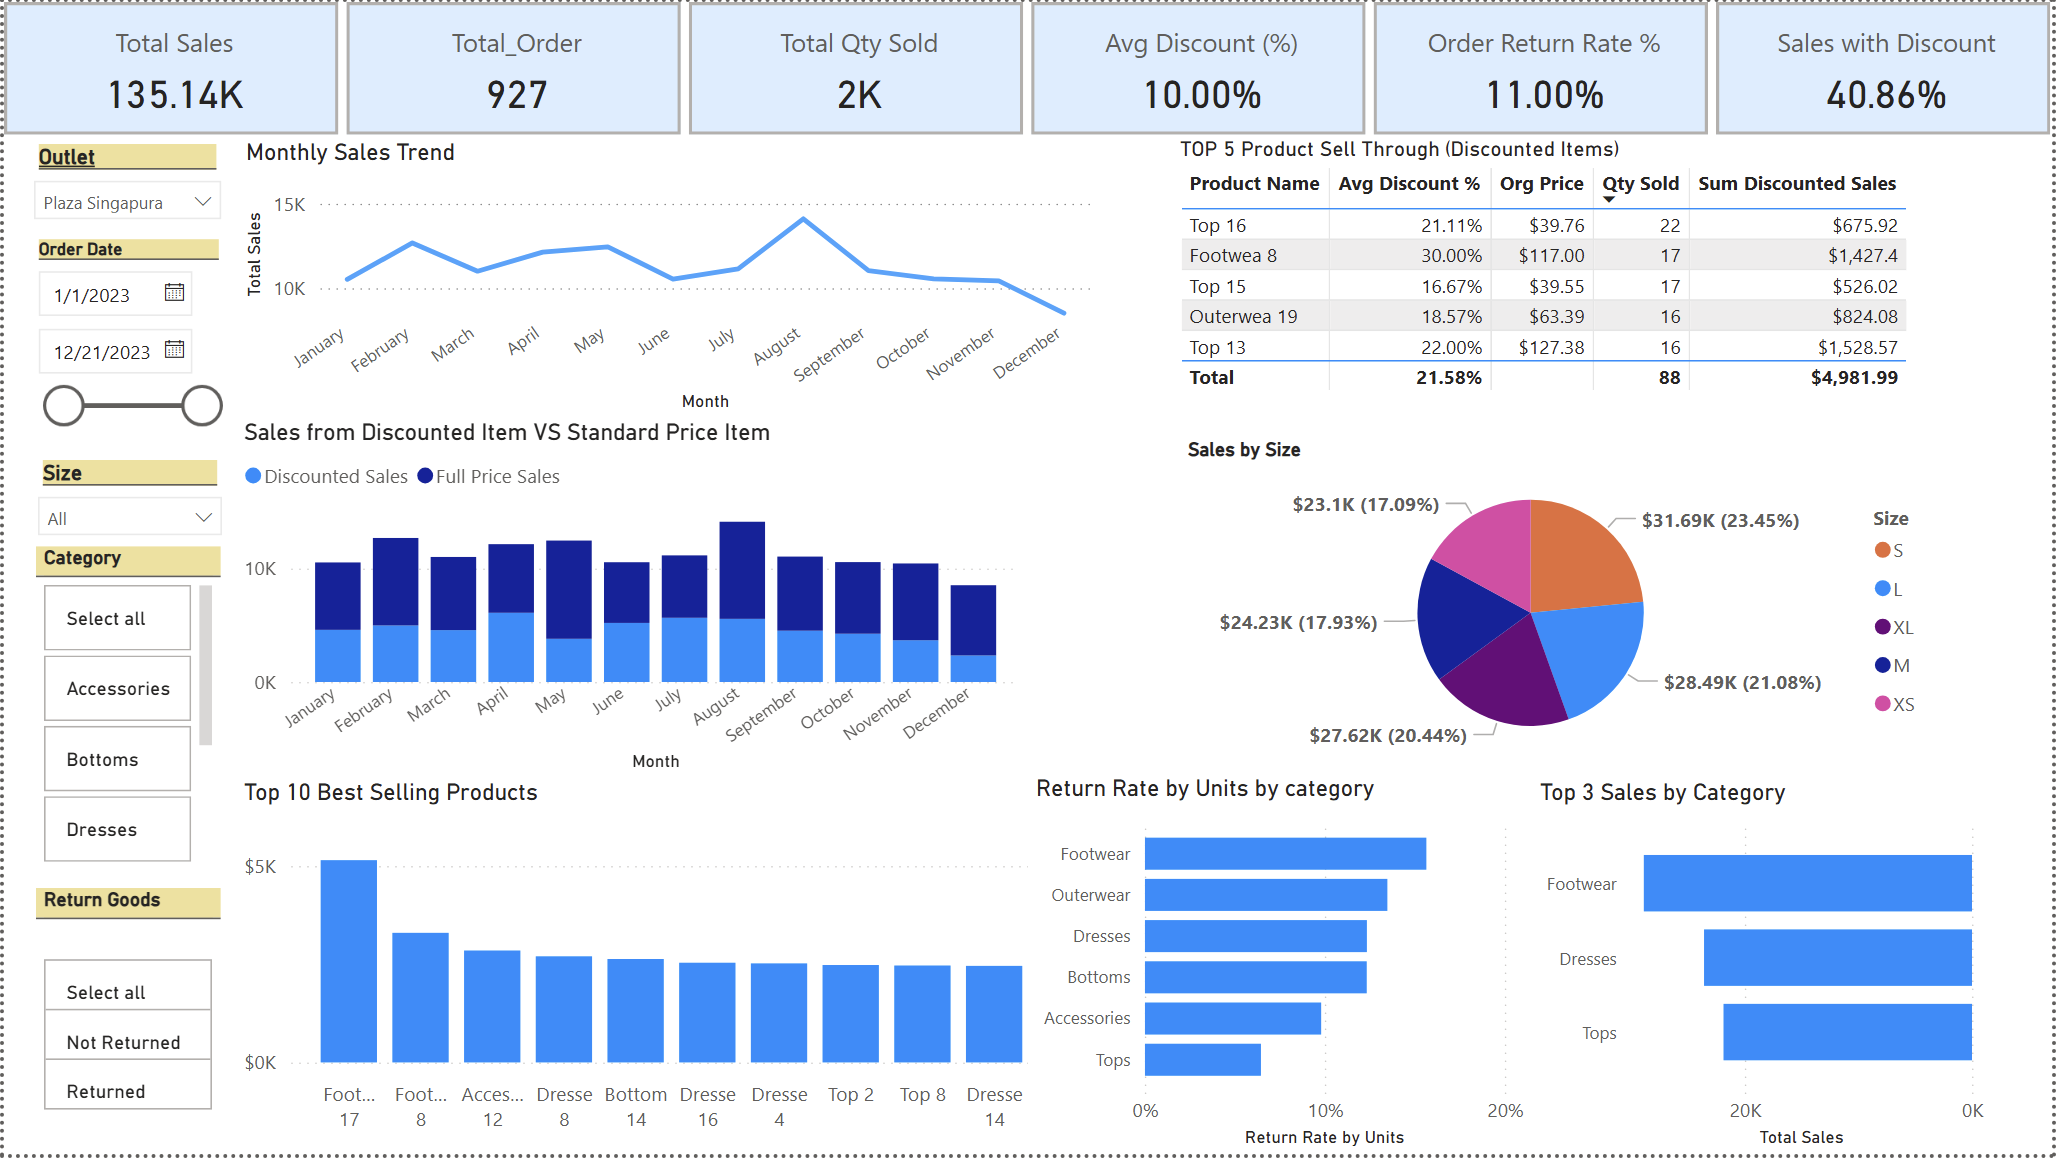

The page's visual inventory and layout, read from the dashboard file:
{"tool":"powerbi","page":{"name":"Page 1","canvas":[1280,720],"ordinal":0},"visuals":[{"type":"cardVisual","fields":{"Data":["Sheet1.Total Sales","Sheet1.Total_Order","Sheet1.Total Qty Sold","Sheet1.Avg Discount (%)","Sheet1.Order Return Rate (%)","Fashion Sales 2023.PctDiscountedSales"]},"box":[0,0,1279.8,83.3],"z":0},{"type":"lineChart","title":"Monthly Sales Trend","fields":{"Category":["Sheet1.order_date.Variation.Date Hierarchy.Month"],"Y":["Fashion Sales 2023.Total Sales"]},"box":[146.2,85,537.5,175],"z":1000},{"type":"clusteredBarChart","title":"Top 3 Sales by Category","fields":{"Category":["Sheet1.category"],"Y":["Fashion Sales 2023.Total Sales"]},"box":[955,485,290,235],"z":2000},{"type":"slicer","fields":{"Values":["Fashion Sales 2023.store_location"]},"box":[9,84,137,63],"z":4000},{"type":"slicer","fields":{"Values":["Fashion Sales 2023.order_date"]},"box":[8.3,146.7,138.3,135],"z":5000},{"type":"advancedSlicerVisual","title":"Category","fields":{"Values":["Fashion Sales 2023.category"]},"box":[20,340,115.5,202.7],"z":6000},{"type":"advancedSlicerVisual","title":"Return Goods","fields":{"Values":["Fashion Sales 2023.Return_Label"]},"box":[20,553.6,115.5,158.2],"z":7000},{"type":"slicer","fields":{"Values":["Fashion Sales 2023.size"]},"box":[11,281,135,59],"z":8000},{"type":"clusteredColumnChart","title":"Top 10 Best Selling Products","fields":{"Category":["Fashion Sales 2023.product_name"],"Y":["Sum(Fashion Sales 2023.total_sales)"]},"box":[145,485,515,228.8],"z":9000},{"type":"columnChart","title":"Sales from Discounted Item VS Standard Price Item","fields":{"Y":["Fashion Sales 2023.Discounted Sales","Fashion Sales 2023.Full Sales Price"],"Category":["Fashion Sales 2023.order_date.Variation.Date Hierarchy.Month"]},"box":[145,260,495,225],"z":10000},{"type":"tableEx","title":"TOP 5 Product Sell Through (Discounted Items)","fields":{"Values":["Fashion Sales 2023.product_name","Avg(Fashion Sales 2023.discount_percent)","Fashion Sales 2023.unit_price","Sum(Fashion Sales 2023.units_sold)","Sum(Fashion Sales 2023.total_sales)"]},"box":[730,83.8,515,190],"z":11000},{"type":"clusteredBarChart","fields":{"Y":["Fashion Sales 2023.Return Rate by Units"],"Category":["Fashion Sales 2023.category"]},"box":[640,482.5,315,237.5],"z":12000},{"type":"pieChart","title":"Sales by Size","fields":{"Y":["Sum(Fashion Sales 2023.total_sales)"],"Category":["Fashion Sales 2023.size"]},"box":[740,272.5,471.2,200],"z":12001}]}

Visuals, with their boxes in screenshot pixels (x1, y1, x2, y2), scaled from the page's 1280x720 canvas onto the 2058x1160 screenshot:
cardVisual - Sheet1.Total Sales x Sheet1.Total_Order: rect(0, 0, 2057, 134)
"Monthly Sales Trend" lineChart: rect(235, 137, 1099, 419)
"Top 3 Sales by Category" clusteredBarChart: rect(1535, 781, 2002, 1159)
slicer - Fashion Sales 2023.store_location: rect(14, 135, 235, 237)
slicer - Fashion Sales 2023.order_date: rect(13, 236, 236, 454)
"Category" advancedSlicerVisual: rect(32, 548, 218, 874)
"Return Goods" advancedSlicerVisual: rect(32, 892, 218, 1147)
slicer - Fashion Sales 2023.size: rect(18, 453, 235, 548)
"Top 10 Best Selling Products" clusteredColumnChart: rect(233, 781, 1061, 1150)
"Sales from Discounted Item VS Standard Price Item" columnChart: rect(233, 419, 1029, 781)
"TOP 5 Product Sell Through (Discounted Items)" tableEx: rect(1174, 135, 2002, 441)
clusteredBarChart - Fashion Sales 2023.Return Rate by Units x Fashion Sales 2023.category: rect(1029, 777, 1535, 1159)
"Sales by Size" pieChart: rect(1190, 439, 1947, 761)
